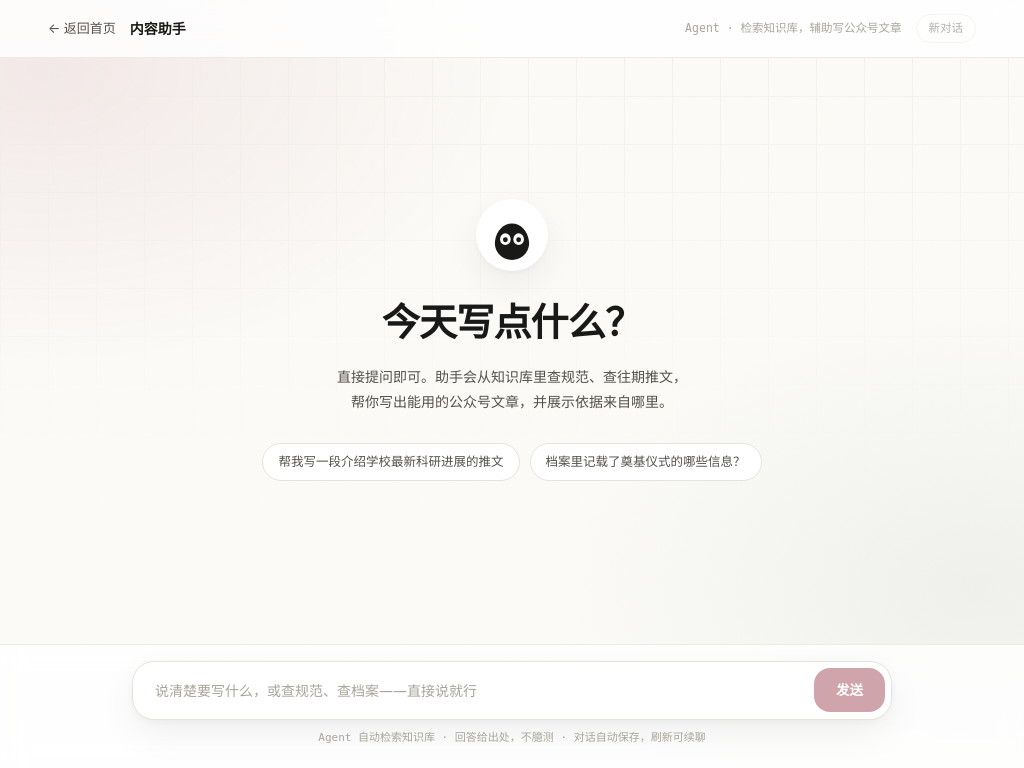
Test case: 助手页 Agent 模式 › 提问后展示 Agent 回答、工具轨迹与依据
Expected: the heading "今天写点什么？" is shown, [382,295,642,352]
In the field named "助手输入框": (472, 690) [139,668,804,712], type "奠基仪式是什么时候？"
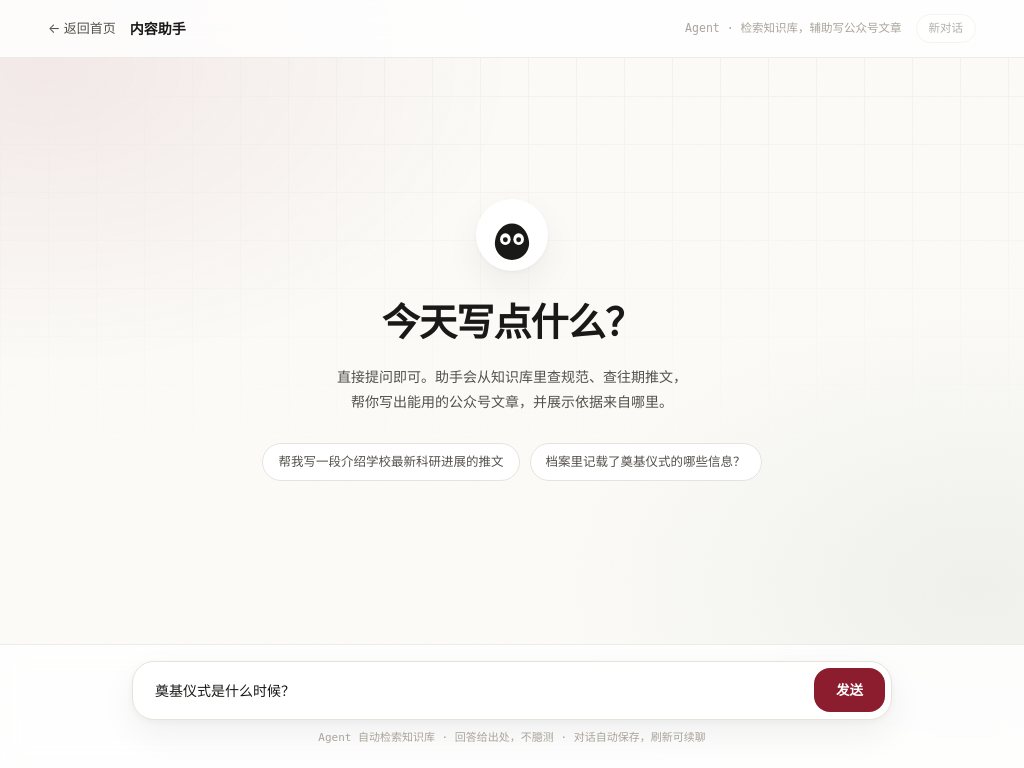
Click the button "发送": (850, 690) [814,668,885,712]
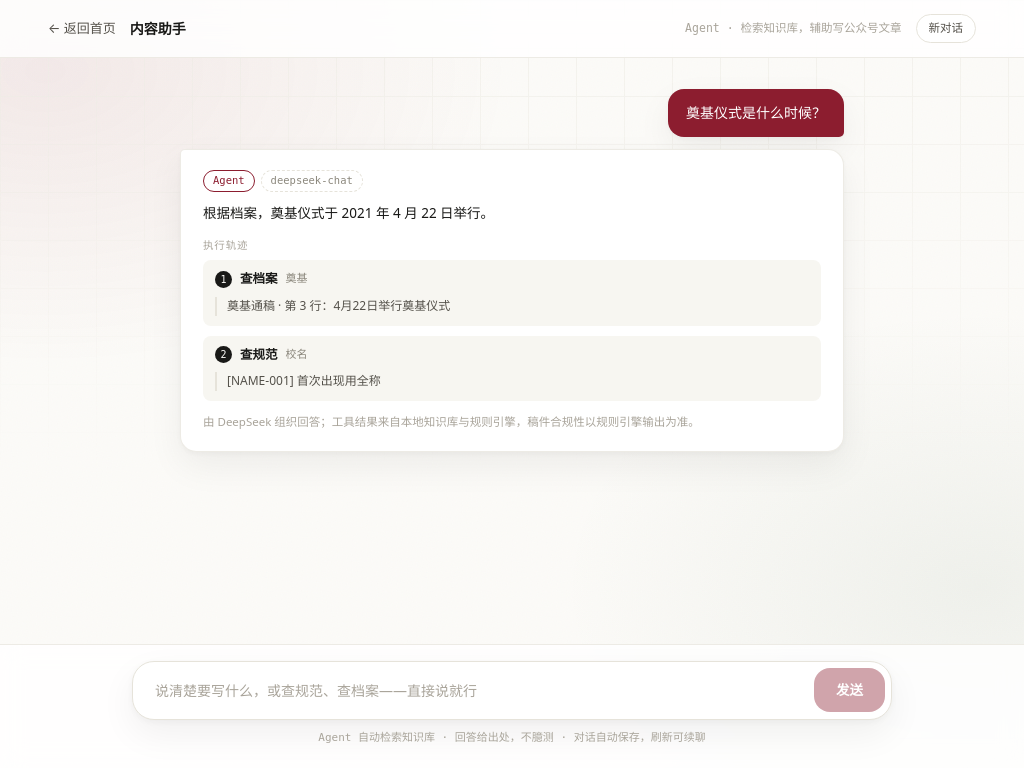
Expected: the text "根据档案，奠基仪式于 2021 年 4 月 22 日举行。" is shown, [203,204,494,222]
Expected: the text "执行轨迹" is shown, [203,240,248,252]
Expected: the text "查档案" is shown, [240,270,278,289]
